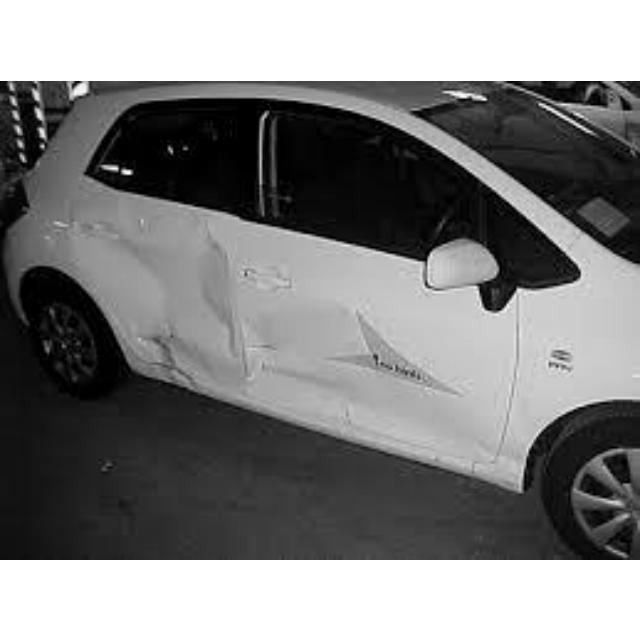doorouter-dent: (258, 219, 495, 453), (70, 179, 235, 393)
